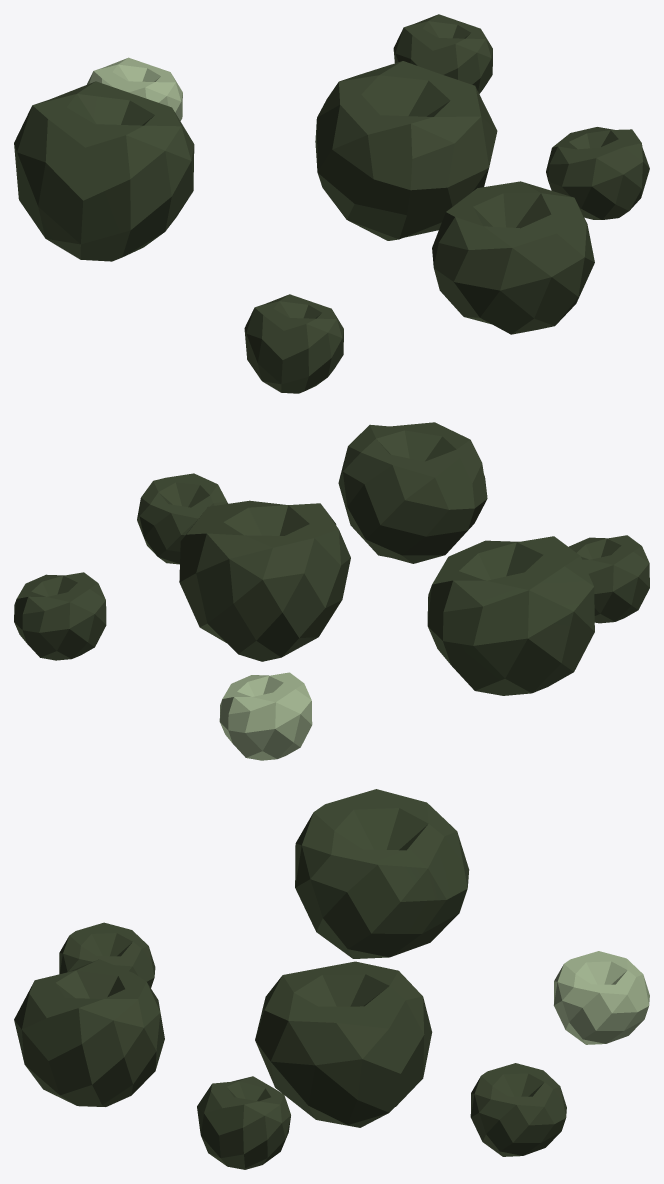
Rendered from EA_Swamp_Fruit_02a.glb.
The picture shows the model from 3 angles, top to bottom: view 1: azimuth 30°, elevation 25°; view 2: azimuth 150°, elevation 25°; view 3: azimuth 270°, elevation 25°; orthographic projection. The views are drawn at different scales.
Visible parts, largest first — view 1: EA_Swamp_Fruit_02a; view 2: EA_Swamp_Fruit_02a; view 3: EA_Swamp_Fruit_02a.
Part boxes in pixels (<box>): EA_Swamp_Fruit_02a: <box>14,14,649,393</box>; EA_Swamp_Fruit_02a: <box>14,422,649,760</box>; EA_Swamp_Fruit_02a: <box>14,789,649,1169</box>.
Size of the model in its own units: 0.9644 by 0.3216 by 1.04.
Materials: 1 (1 with a texture image).
